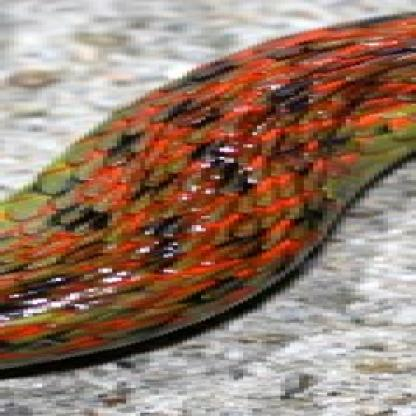snakes: (0, 11, 416, 370)
